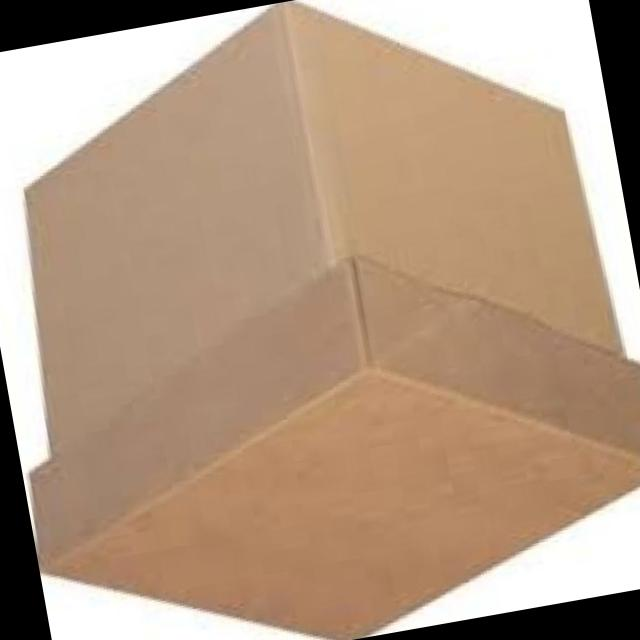cardboard paper: (15, 3, 640, 640)
